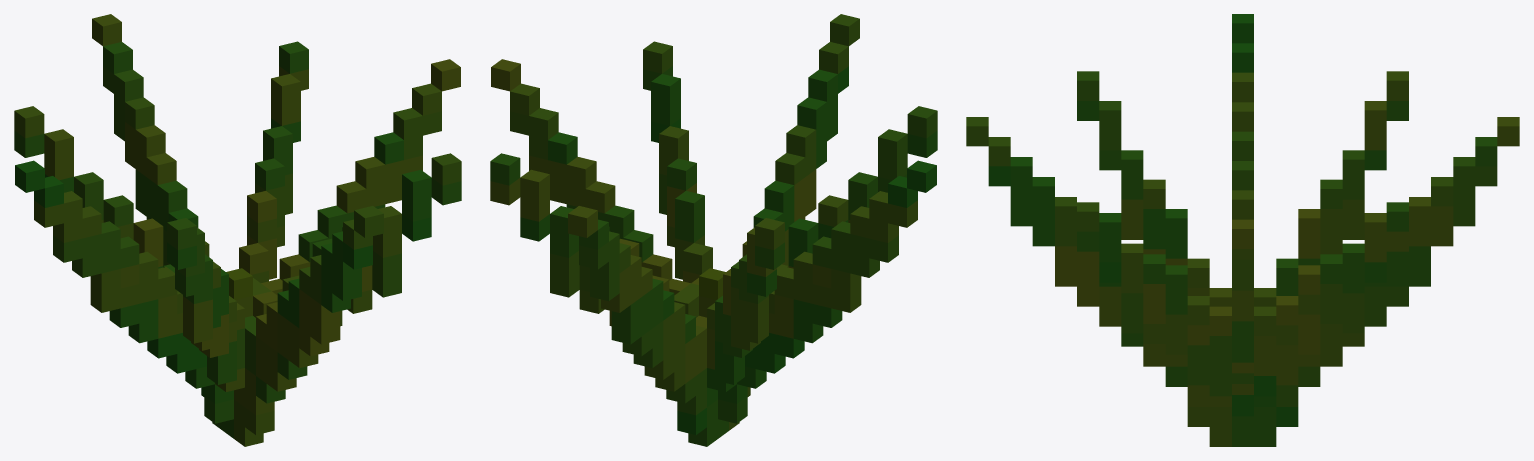
Rendered from flower_2.fbx.
The picture shows the model from 3 angles, left to right: view 1: azimuth 30°, elevation 25°; view 2: azimuth 150°, elevation 25°; view 3: azimuth 270°, elevation 25°; orthographic projection.
Parts seen in each view (by area): view 1: flower_2; view 2: flower_2; view 3: flower_2.
Boxes of the visible parts, x1,y1,x2,y2 form: flower_2: (14,14,461,446); flower_2: (490,14,937,446); flower_2: (966,14,1519,446).
Size of the model in its own units: 230 by 250 by 160.
